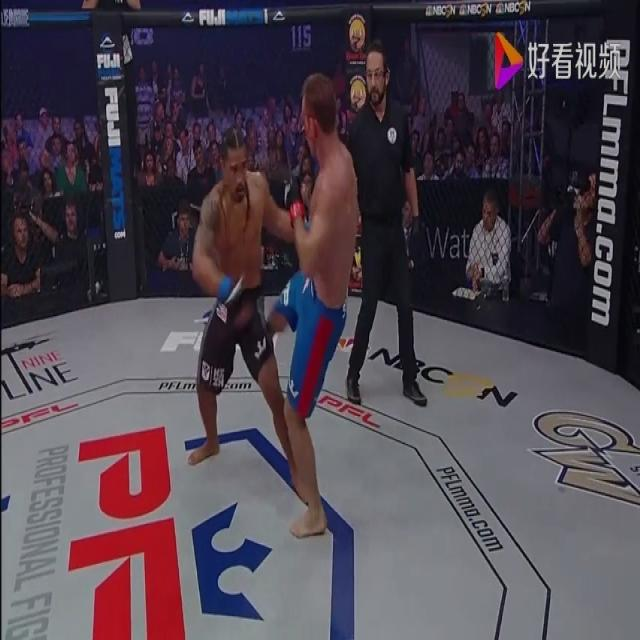fight: (188, 67, 361, 544)
non-fight: (342, 42, 429, 412)
